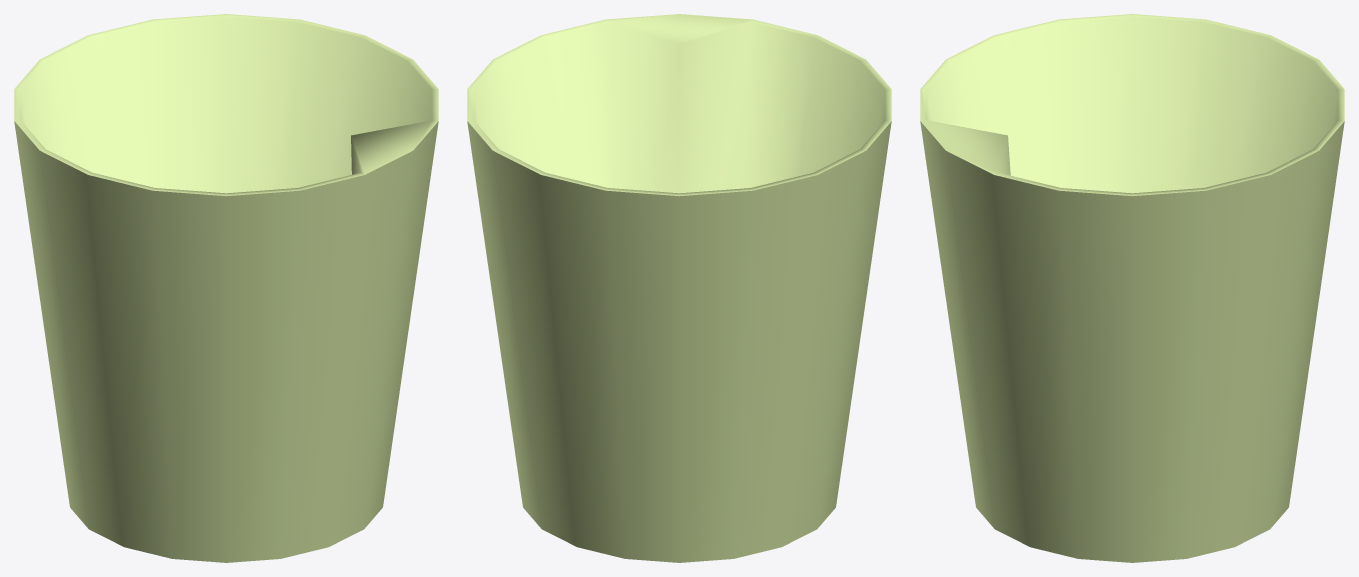
The model's file is Glass.FBX.
The picture shows the model from 3 angles, left to right: view 1: azimuth 30°, elevation 25°; view 2: azimuth 150°, elevation 25°; view 3: azimuth 270°, elevation 25°; orthographic projection.
Parts seen in each view (by area): view 1: Cylinder002; view 2: Cylinder002; view 3: Cylinder002.
Part boxes in pixels (x1,y1,x2,y2): Cylinder002: (14, 14, 438, 562); Cylinder002: (467, 14, 891, 562); Cylinder002: (920, 14, 1344, 562).
Size of the model in its own units: 0.1 by 0.1 by 0.0985.
